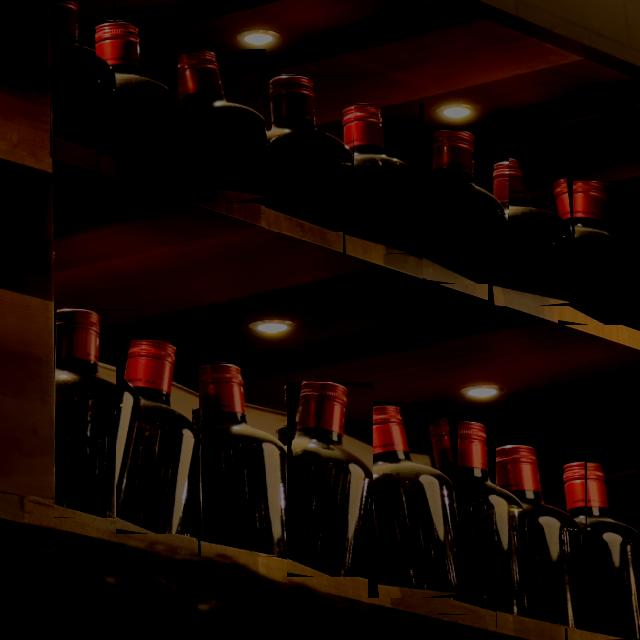Bottle: (438, 422, 530, 615), (197, 363, 287, 557), (367, 403, 456, 598), (286, 382, 372, 577), (54, 309, 133, 517), (496, 445, 585, 628), (115, 341, 198, 534), (173, 50, 265, 202), (264, 75, 353, 232), (565, 463, 639, 639), (423, 131, 507, 284), (488, 156, 571, 305), (342, 104, 423, 254), (96, 21, 176, 172), (558, 182, 639, 325), (49, 0, 115, 152), (277, 427, 289, 446), (191, 408, 200, 424)
